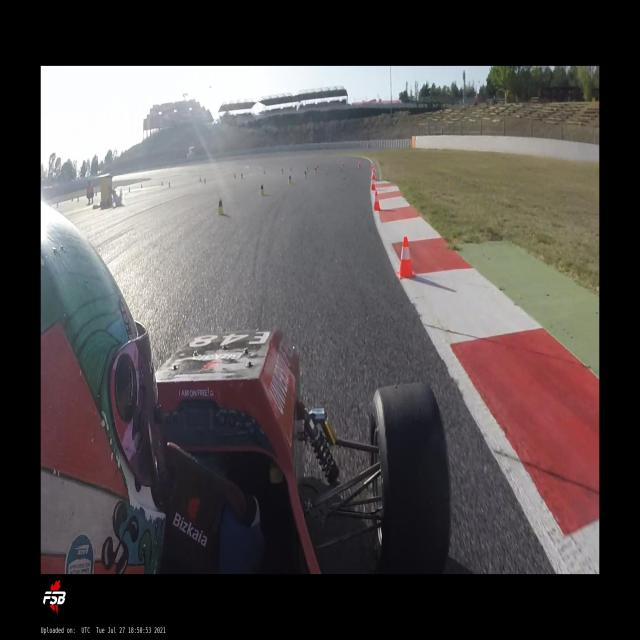orange_cone: (396, 237, 415, 280), (372, 190, 380, 211), (370, 174, 376, 190), (372, 167, 376, 180), (358, 161, 361, 167), (341, 160, 344, 166)
yellow_cone: (216, 197, 225, 216), (260, 183, 265, 195), (288, 174, 292, 184), (314, 166, 317, 174), (306, 166, 309, 172), (304, 171, 306, 178), (281, 167, 283, 173)
